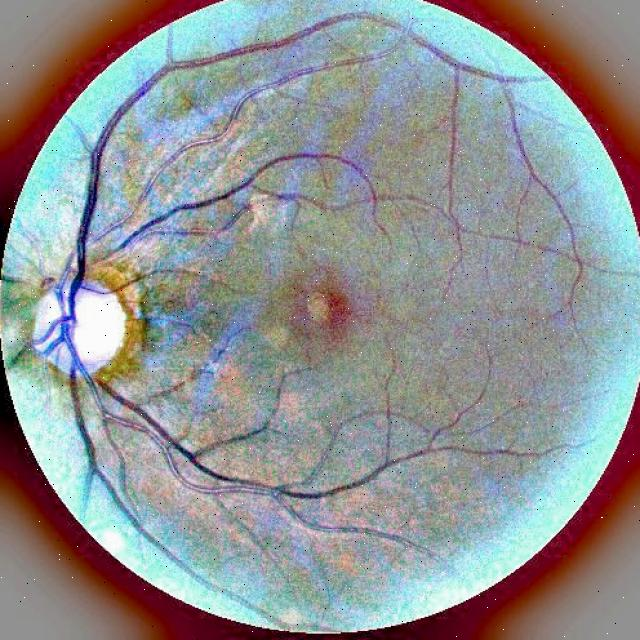Macula: (307, 288, 352, 329)
Nerves: (51, 4, 534, 621)
Optic Disk: (34, 271, 128, 375)
